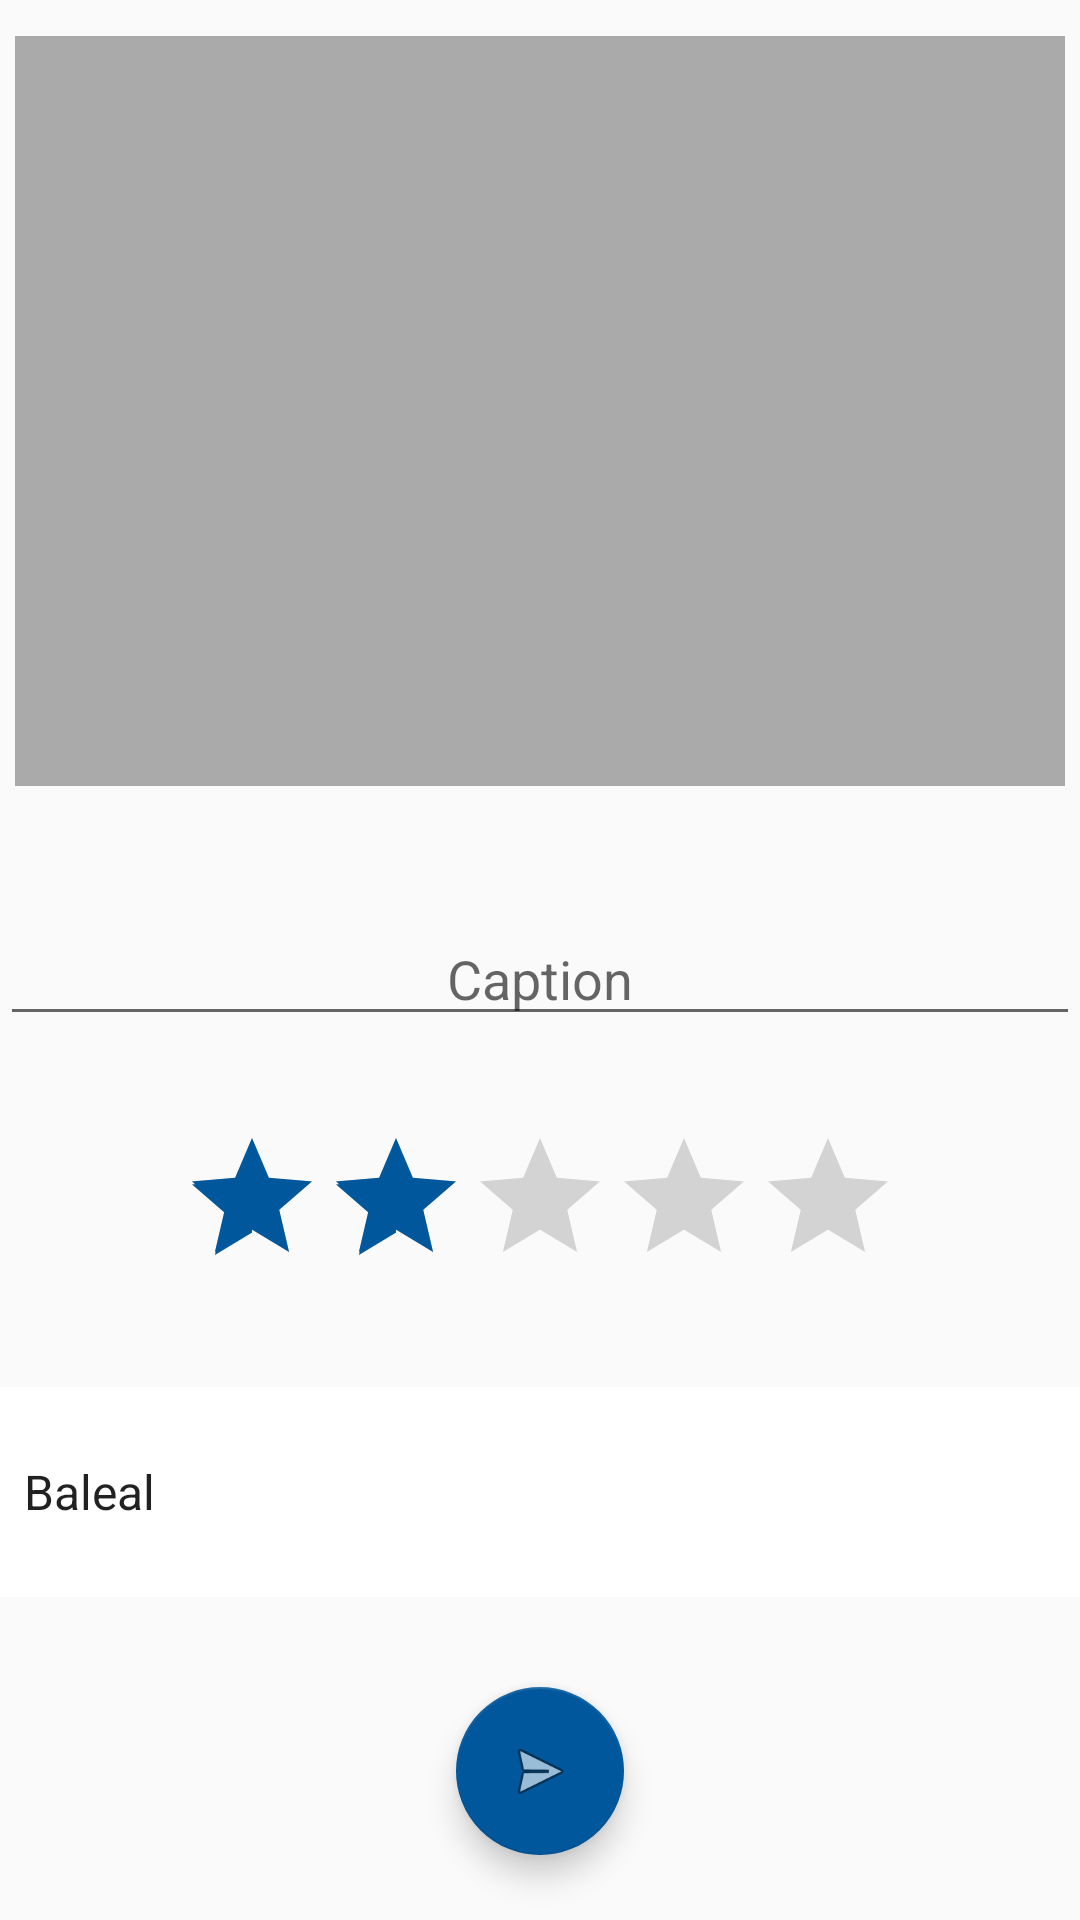

Named icons in this screenshot (1080 x 1920) and their centers, [x,y]:
send: [540,1771]
